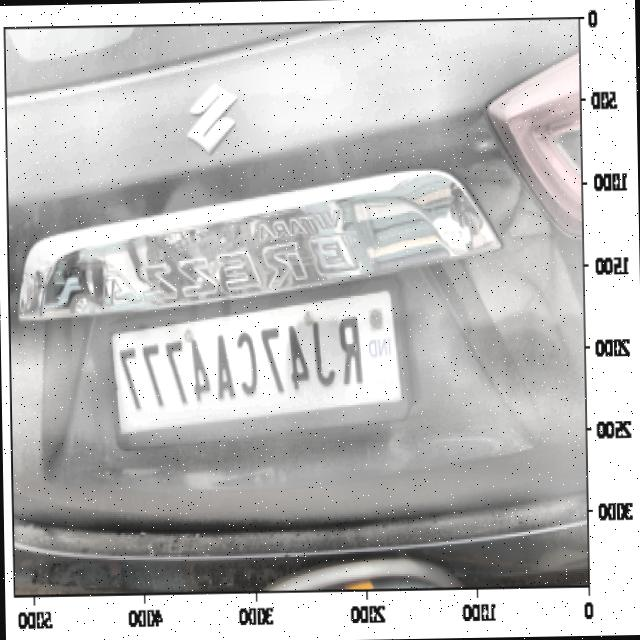license_plate: (110, 295, 368, 418)
